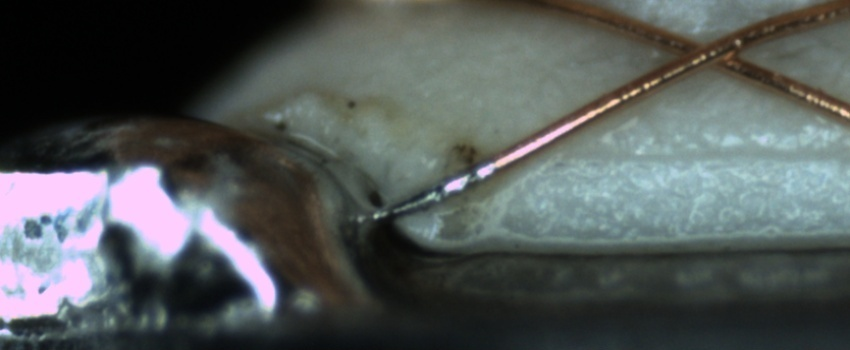CL: (661, 23, 759, 77)
DL: (558, 126, 849, 186)
TS: (371, 160, 496, 225)
